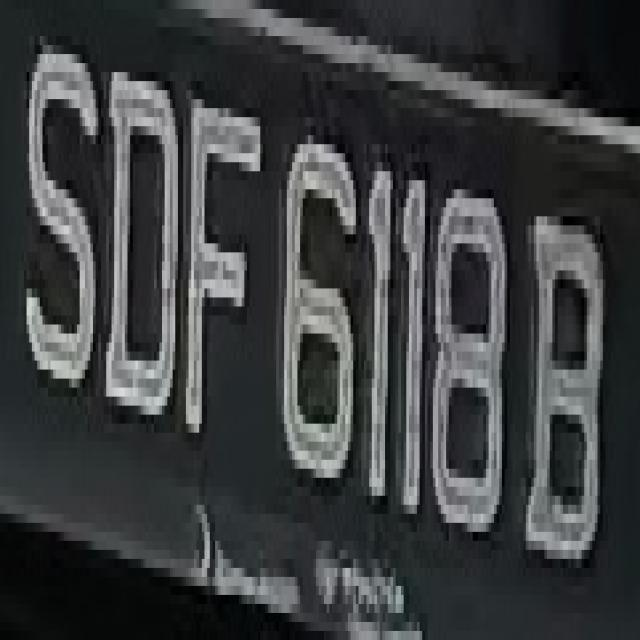1: (364, 90, 393, 532), (401, 135, 428, 550)
6: (287, 108, 361, 496)
8: (433, 162, 515, 559)
B: (521, 162, 608, 577)
D: (106, 54, 183, 460)
F: (183, 63, 263, 451)
S: (24, 27, 101, 397)
